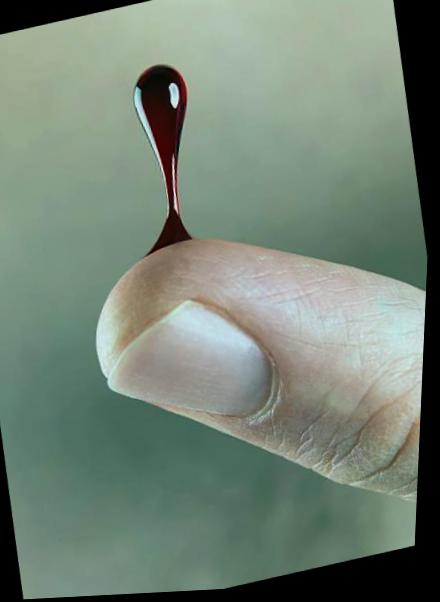Fire: (134, 65, 194, 256)
